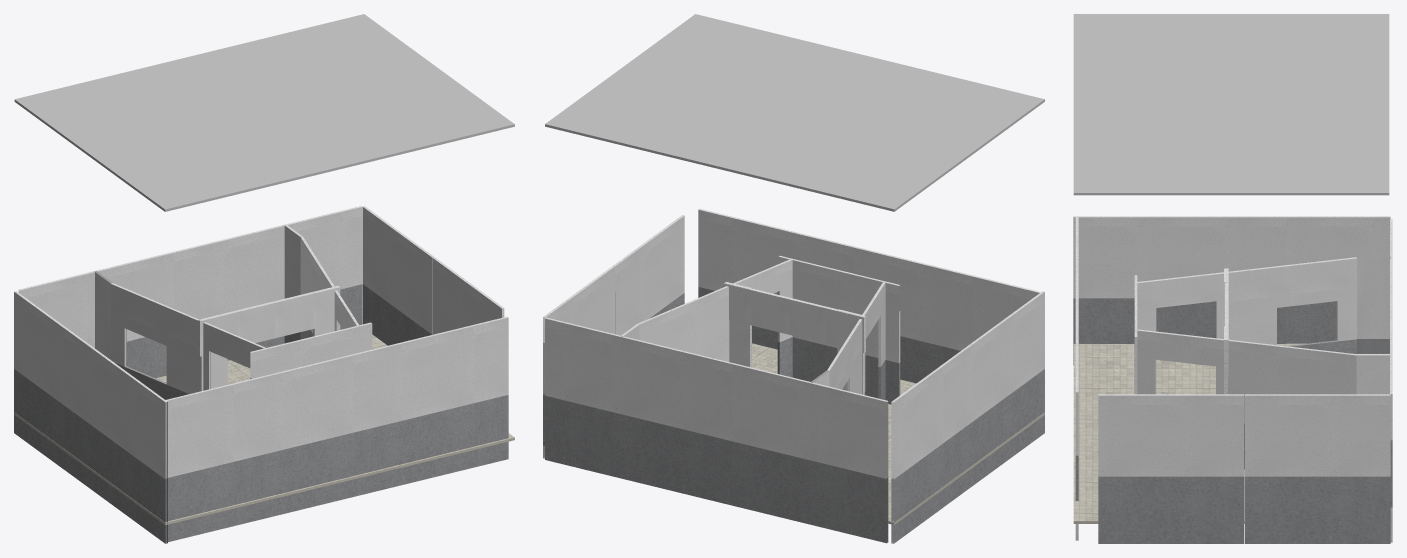
File: MapBoxoutFinal.fbx
3 renders of one model, left to right at view 1: azimuth 30°, elevation 25°; view 2: azimuth 150°, elevation 25°; view 3: azimuth 270°, elevation 25°, orthographic. The views are drawn at different scales.
Parts seen in each view (by area): view 1: OuterWalls1, polySurface43, InnerWalls1, BigWindowFramw, polySurface44; view 2: OuterWalls1, polySurface43, InnerWalls1, BigWindowFramw, polySurface44; view 3: OuterWalls1, polySurface43, InnerWalls1, polySurface44, BigWindowFramw.
Boxes of the visible parts, x1,y1,x2,y2 form: OuterWalls1: (14, 206, 508, 543); polySurface43: (14, 14, 514, 211); InnerWalls1: (94, 224, 372, 399); BigWindowFramw: (198, 285, 340, 391); polySurface44: (14, 334, 514, 525); OuterWalls1: (543, 208, 1044, 543); polySurface43: (545, 14, 1044, 211); InnerWalls1: (621, 255, 900, 404); BigWindowFramw: (724, 282, 865, 394); polySurface44: (752, 343, 1044, 524); OuterWalls1: (1073, 216, 1392, 543); polySurface43: (1073, 14, 1389, 195); InnerWalls1: (1134, 257, 1390, 469); polySurface44: (1073, 343, 1305, 523); BigWindowFramw: (1224, 268, 1228, 394).
Bounding box in the file's own units: 71.53 × 65.11 × 53.8.
